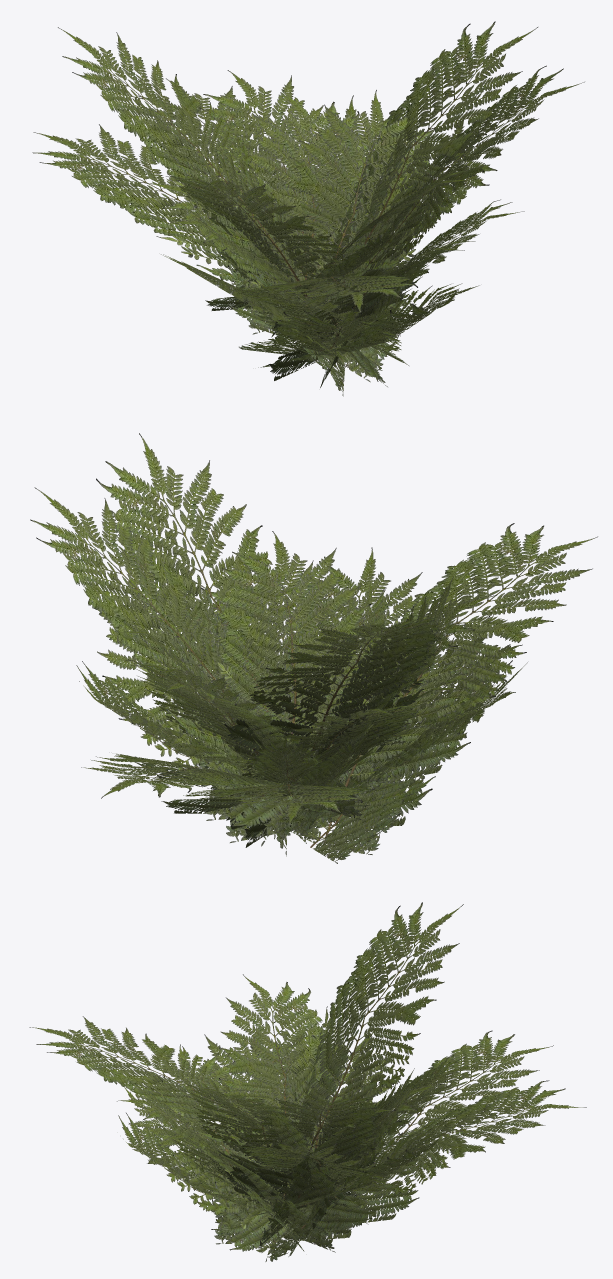
Rendered from Fern2.fbx.
The picture shows the model from 3 angles, top to bottom: view 1: azimuth 30°, elevation 25°; view 2: azimuth 150°, elevation 25°; view 3: azimuth 270°, elevation 25°; orthographic projection. The views are drawn at different scales.
Parts seen in each view (by area): view 1: fern2-00; view 2: fern2-00; view 3: fern2-00.
Boxes of the visible parts, box(x1,y1,x2,y2) form: fern2-00: box(32, 21, 584, 396); fern2-00: box(30, 433, 597, 863); fern2-00: box(29, 902, 586, 1261).
Size of the model in its own units: 96.08 by 66.87 by 129.
1 material, 1 textured.
